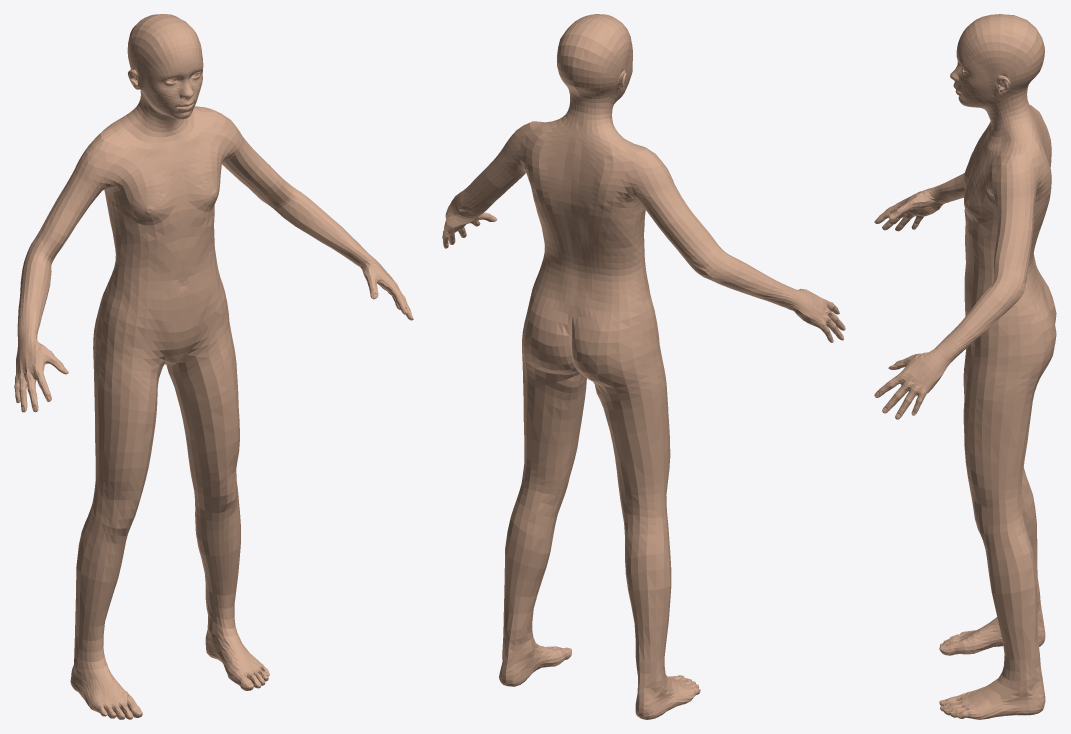
The model's file is peds_anxious_parent.anny_base.obj.
3 renders of one model, left to right at view 1: azimuth 30°, elevation 25°; view 2: azimuth 150°, elevation 25°; view 3: azimuth 270°, elevation 25°, orthographic.
Size of the model in its own units: 1.02 by 1.66 by 0.4124.
